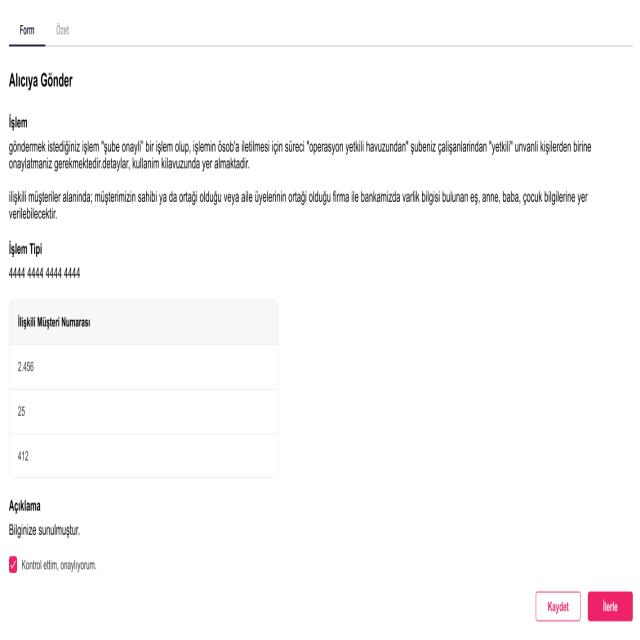QLabel: (7, 187, 589, 225), (8, 140, 598, 173), (7, 72, 74, 92), (8, 521, 80, 539), (8, 266, 82, 280), (6, 237, 44, 258), (8, 497, 42, 515), (8, 112, 27, 132), (548, 600, 570, 614), (18, 23, 36, 37), (603, 598, 618, 614), (55, 22, 70, 36)
VBtn: (535, 590, 581, 622), (588, 590, 633, 622)
VCheckbox: (8, 553, 97, 575)
VDataTable: (8, 297, 279, 481)
VTab: (5, 14, 47, 49), (50, 14, 77, 48)
VTabs: (2, 5, 637, 58)
